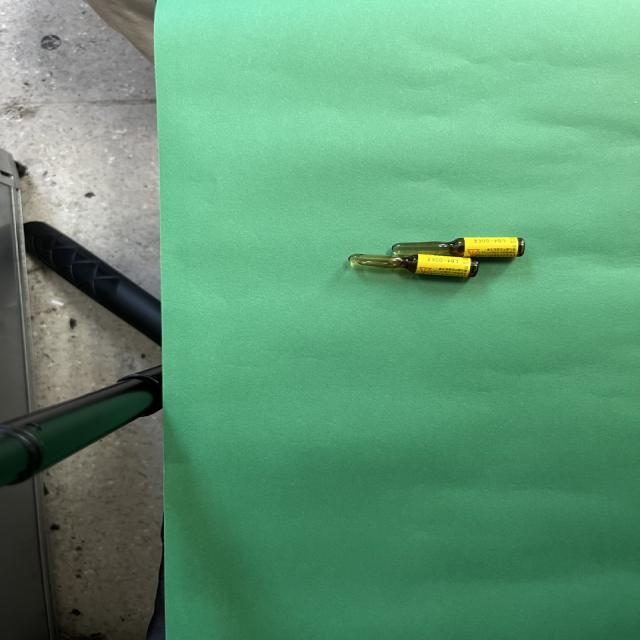Ampoules: (348, 254, 479, 278), (391, 238, 525, 257)
